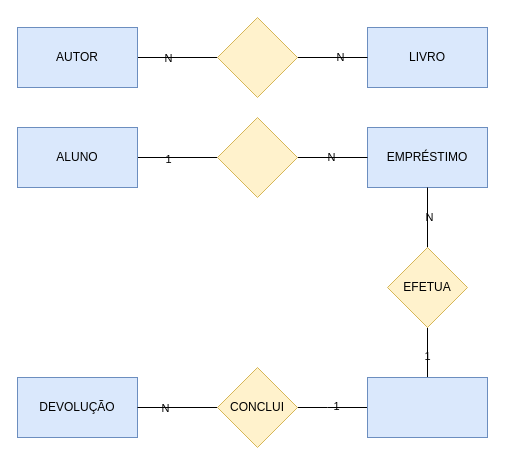
This 505x465 diagram has some shape labels left out. Each missing label, with the centre of its shape:
ESCREVE: the point at 257,57
FUNCIONÁRIO: the point at 427,407
REALIZA: the point at 257,157
